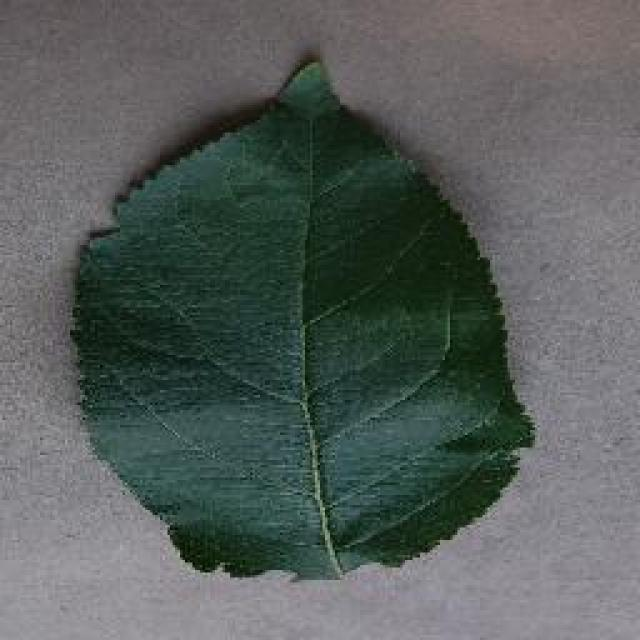apple healthy: (65, 55, 535, 580)
